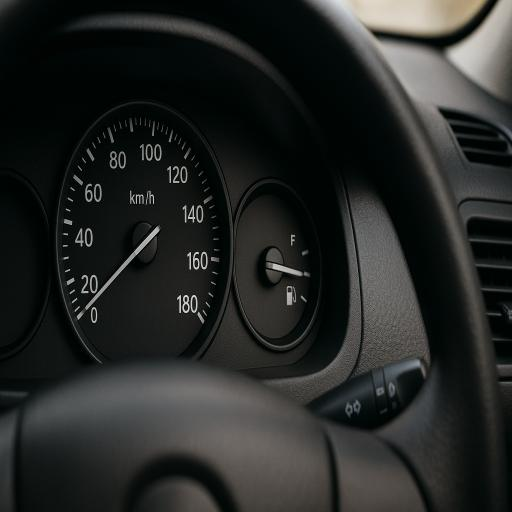fuel_icon: (284, 282, 296, 310)
full: (289, 234, 297, 248)
guage_area: (232, 173, 328, 350)
needle_center: (261, 244, 285, 283)
needle_tip: (296, 267, 305, 279)
